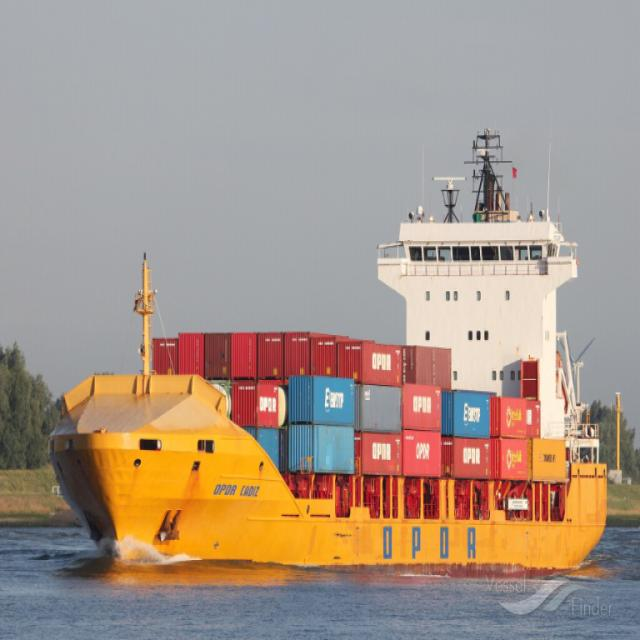Container Ship: (43, 153, 606, 568)
